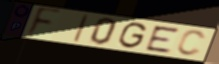0: (88, 17, 119, 47)
C: (175, 29, 208, 58)
E: (144, 25, 181, 54)
F: (24, 6, 64, 38)
G: (117, 22, 149, 50)
I: (71, 13, 90, 44)
